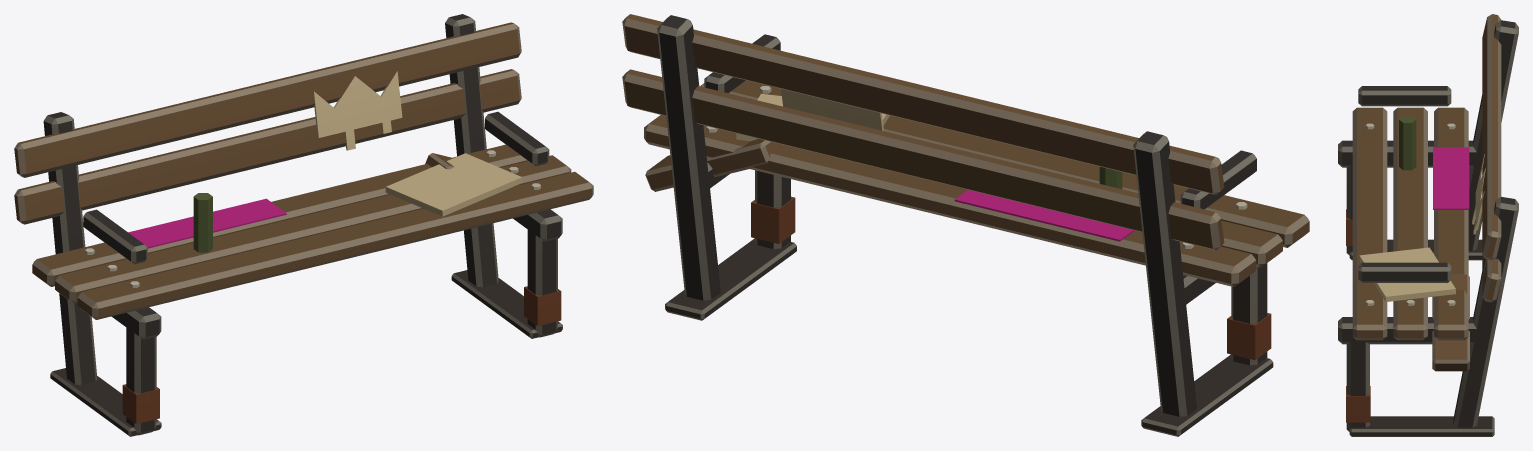
Rendered from c_bench.glb.
3 renders of one model, left to right at view 1: azimuth 30°, elevation 25°; view 2: azimuth 150°, elevation 25°; view 3: azimuth 270°, elevation 25°, orthographic. The views are drawn at different scales.
Visible parts, largest first — view 1: c_bench; view 2: c_bench; view 3: c_bench.
Boxes of the visible parts, <box> form: c_bench: <box>14,14,593,436</box>; c_bench: <box>622,14,1309,436</box>; c_bench: <box>1338,14,1518,436</box>.
Bounding box in the file's own units: 1.8 × 0.8777 × 0.6232.
